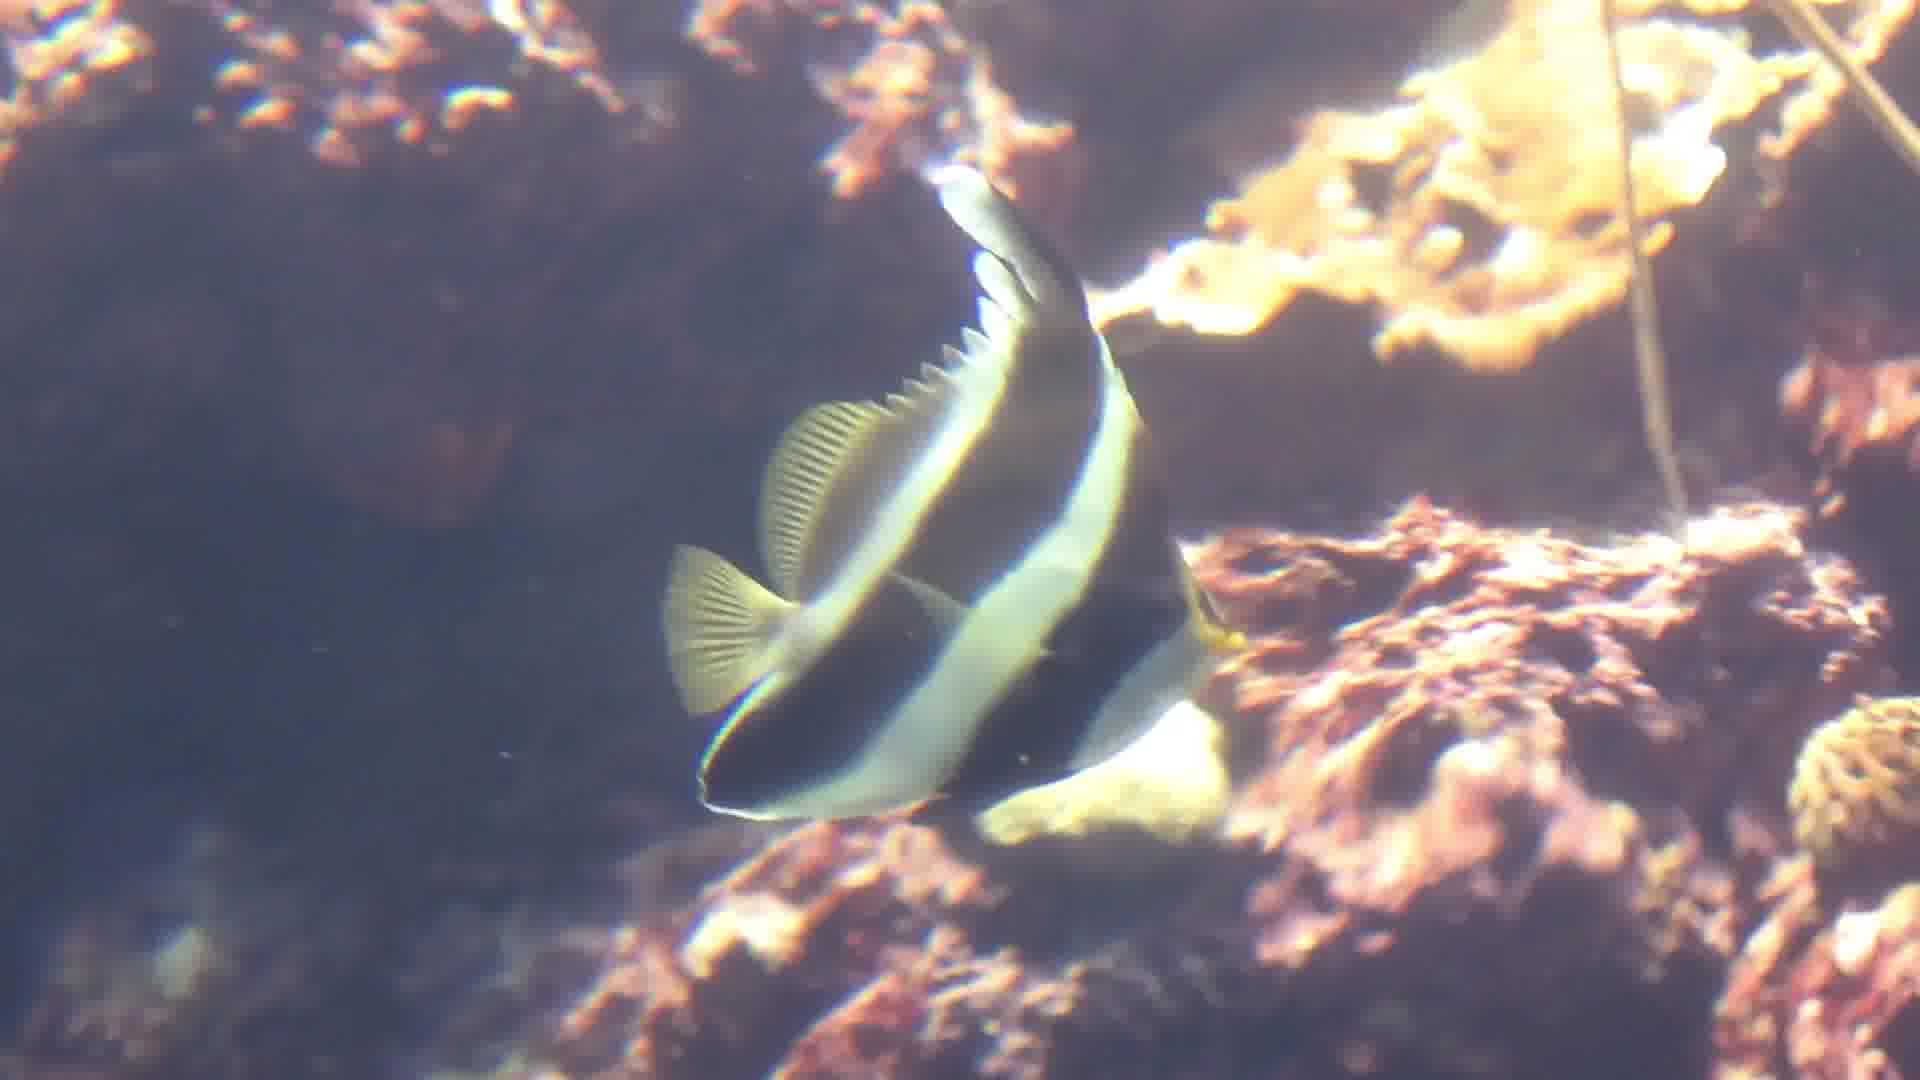Heniochus chrysostomus: (601, 171, 1274, 953)
